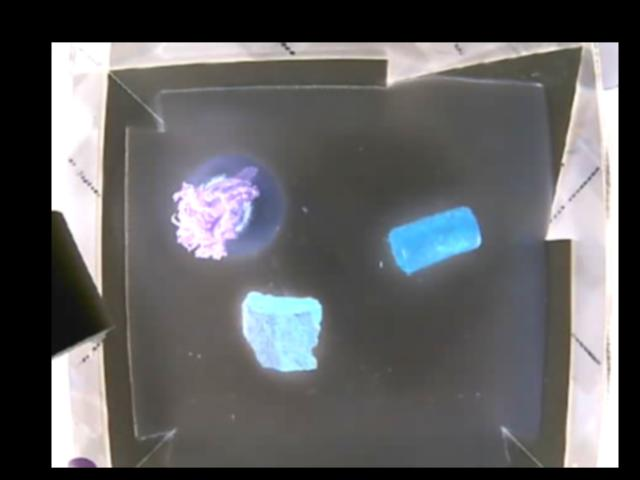Brisk: (240, 287, 319, 372)
Carrot: (391, 206, 482, 271)
Mooli: (170, 152, 287, 262)
